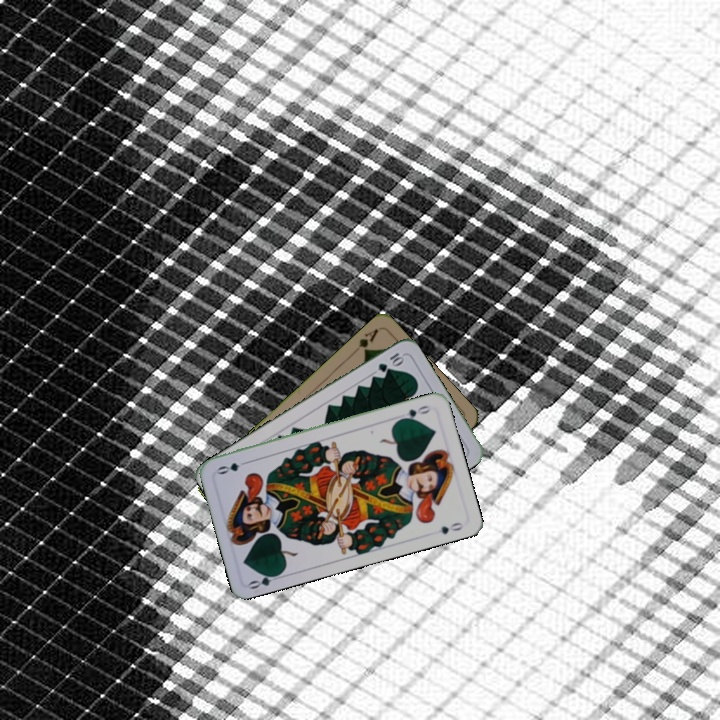G10: (374, 349, 406, 375)
GA: (354, 324, 381, 356)
GO: (245, 569, 285, 592), (395, 401, 434, 423)
